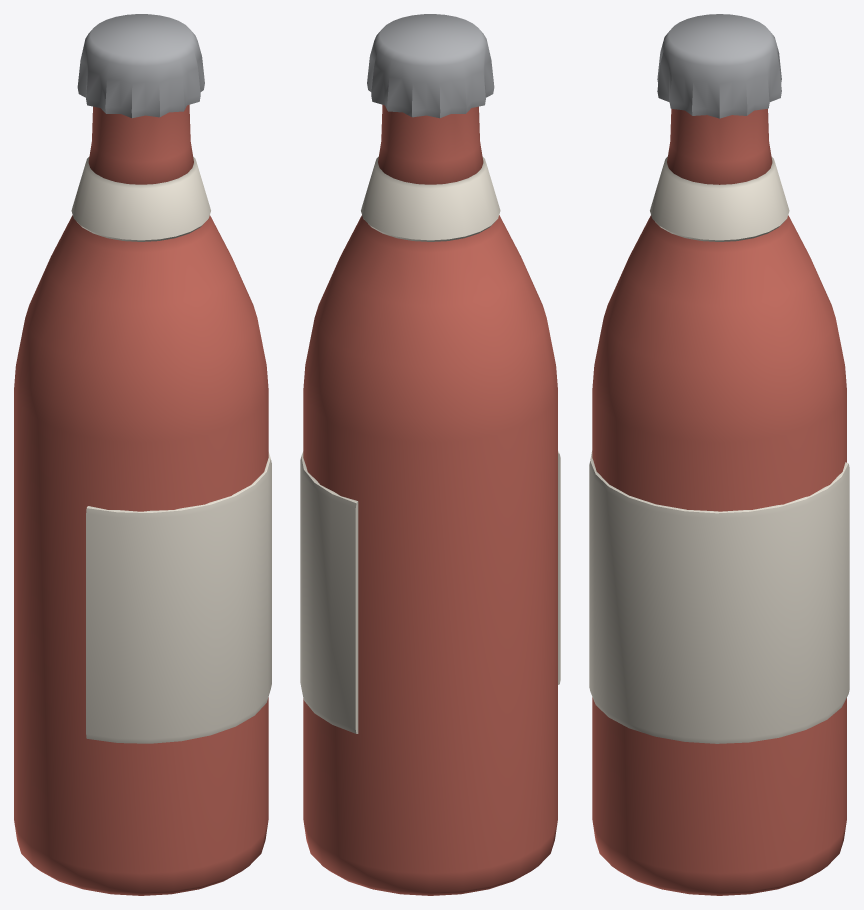
File: drink_beer.glb
3 views of the same model, side by side, from view 1: azimuth 30°, elevation 25°; view 2: azimuth 150°, elevation 25°; view 3: azimuth 270°, elevation 25° (orthographic).
Parts seen in each view (by area): view 1: PART; view 2: PART; view 3: PART.
Part boxes in pixels (<box>): PART: <box>14,14,271,895</box>; PART: <box>300,14,560,895</box>; PART: <box>589,14,849,895</box>.
Size of the model in its own units: 0.0689 by 0.24 by 0.0696.
